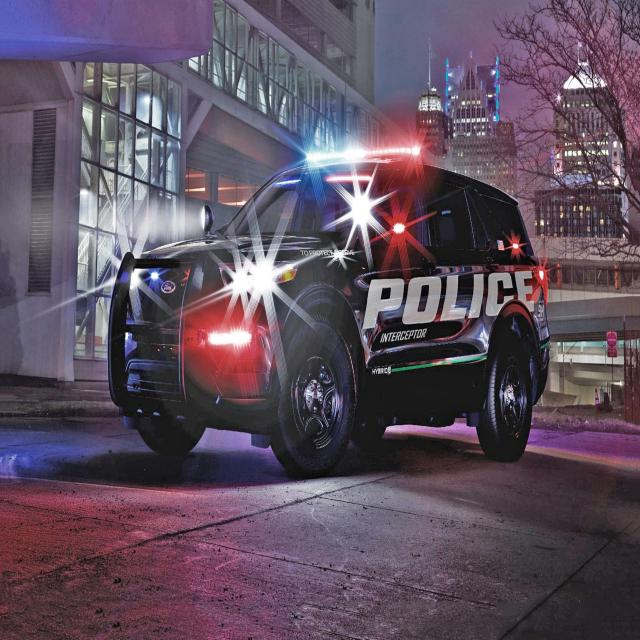cop: (110, 152, 549, 472)
